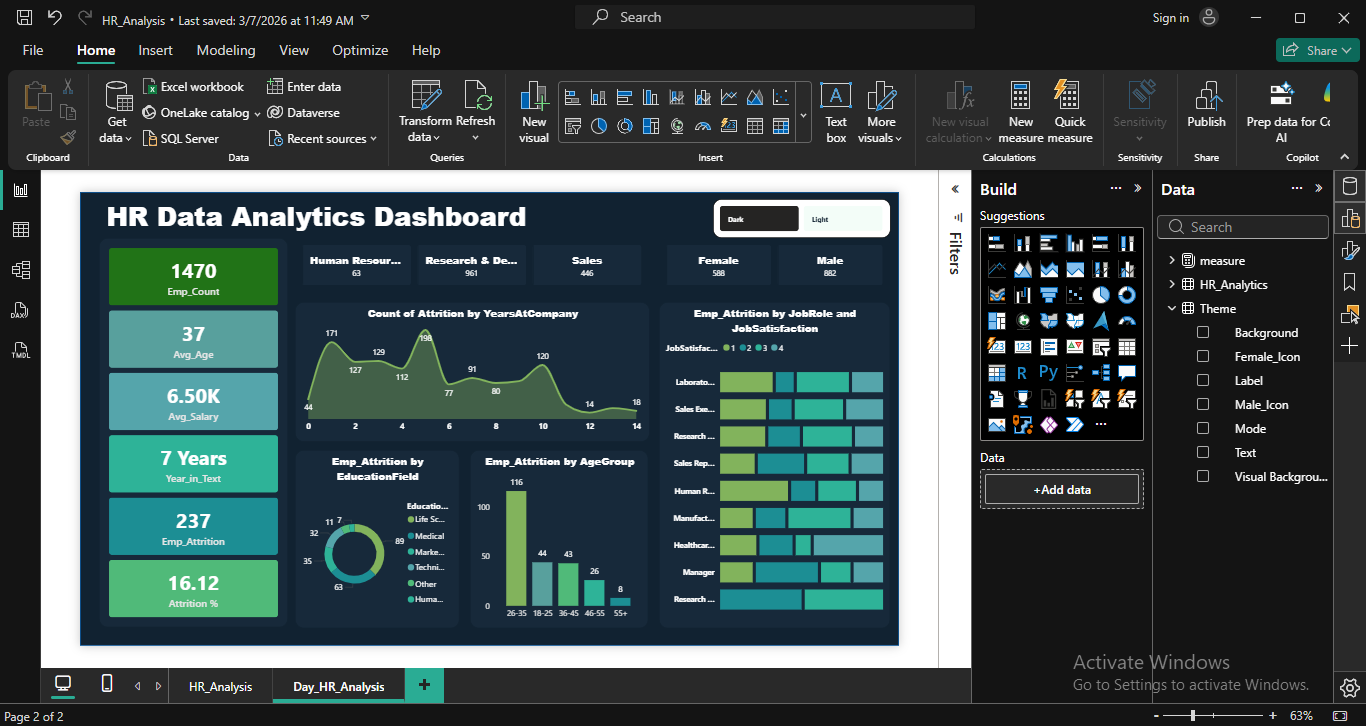

The page's visual inventory and layout, read from the dashboard file:
{"tool":"powerbi","page":{"name":"HR_Analysis","canvas":[1300,720],"ordinal":0},"visuals":[{"type":"cardVisual","fields":{"Data":["measure.Emp_Count","measure.Avg_Age","measure.Avg_Salary","measure.Year_in_Text","measure.Emp_Attrition","measure.Attrition %"]},"box":[29.5,73.8,300,618],"z":0},{"type":"areaChart","fields":{"Y":["CountNonNull(HR_Analytics.Attrition)"],"Category":["HR_Analytics.YearsAtCompany"]},"box":[341.2,174.5,562.7,221.6],"z":1000},{"type":"donutChart","fields":{"Y":["measure.Emp_Attrition"],"Category":["HR_Analytics.EducationField"]},"box":[340.9,409.1,260.6,283.3],"z":2000},{"type":"hundredPercentStackedBarChart","fields":{"Category":["HR_Analytics.JobRole"],"Y":["measure.Emp_Attrition"],"Series":["HR_Analytics.JobSatisfaction"]},"box":[919.6,174.5,366.7,517.6],"z":3000},{"type":"columnChart","fields":{"Category":["HR_Analytics.AgeGroup"],"Y":["measure.Emp_Attrition"]},"box":[619.7,409.1,283.3,283.3],"z":4000},{"type":"advancedSlicerVisual","fields":{"Values":["HR_Analytics.Gender"]},"box":[919.7,73.8,367.2,86.9],"z":5000},{"type":"advancedSlicerVisual","fields":{"Values":["HR_Analytics.Department"]},"box":[341,73.8,562.3,86.9],"z":6000},{"type":"card","fields":{"Values":["measure.HR"]},"box":[0,0,761.7,73.3],"z":7000}]}

Visuals, with their boxes on the page's 1300x720 design canvas (x1, y1, x2, y2). These are canvas units, not pixel positions in the 1366x726 screenshot, which may show the page scaled, cropped or inside an application window:
cardVisual - measure.Emp_Count x measure.Avg_Age: left=30, top=74, right=330, bottom=692
areaChart - CountNonNull(HR_Analytics.Attrition) x HR_Analytics.YearsAtCompany: left=341, top=174, right=904, bottom=396
donutChart - measure.Emp_Attrition x HR_Analytics.EducationField: left=341, top=409, right=602, bottom=692
hundredPercentStackedBarChart - HR_Analytics.JobRole x measure.Emp_Attrition: left=920, top=174, right=1286, bottom=692
columnChart - HR_Analytics.AgeGroup x measure.Emp_Attrition: left=620, top=409, right=903, bottom=692
advancedSlicerVisual - HR_Analytics.Gender: left=920, top=74, right=1287, bottom=161
advancedSlicerVisual - HR_Analytics.Department: left=341, top=74, right=903, bottom=161
card - measure.HR: left=0, top=0, right=762, bottom=73
